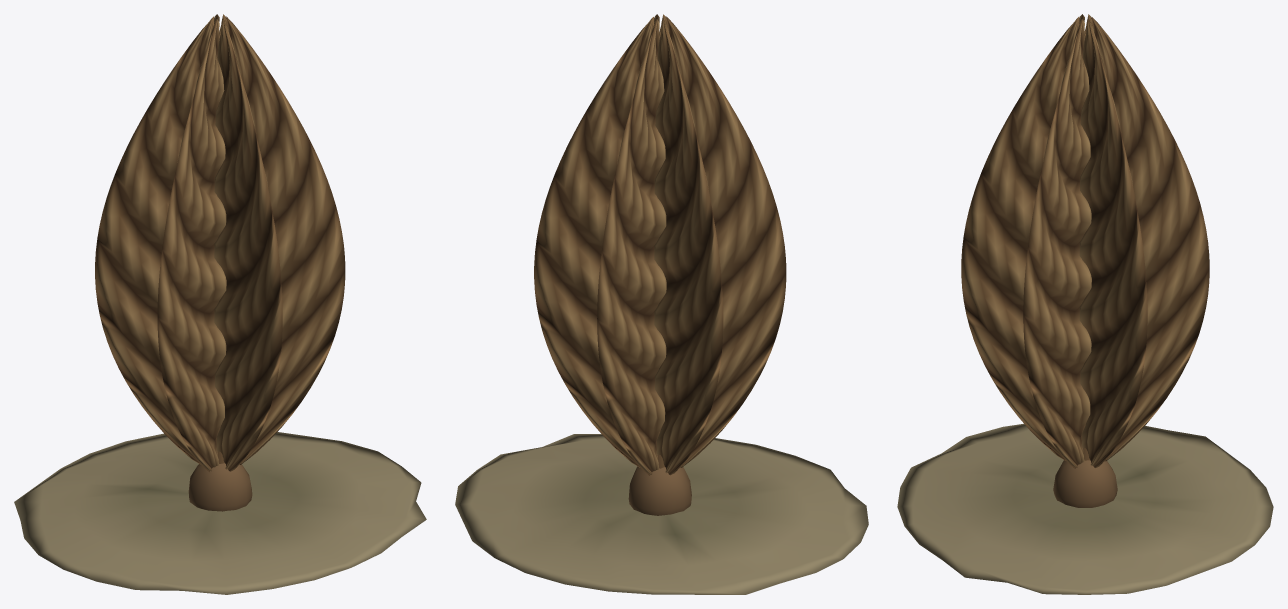
The model's file is Rangea.fbx.
3 renders of one model, left to right at view 1: azimuth 30°, elevation 25°; view 2: azimuth 150°, elevation 25°; view 3: azimuth 270°, elevation 25°, orthographic.
Parts seen in each view (by area): view 1: Rangea; view 2: Rangea; view 3: Rangea.
Boxes of the visible parts, bbox=[...] form: Rangea: bbox=[14, 14, 426, 594]; Rangea: bbox=[455, 14, 868, 594]; Rangea: bbox=[897, 14, 1273, 594].
Size of the model in its own units: 1.24 by 1.61 by 1.12.
